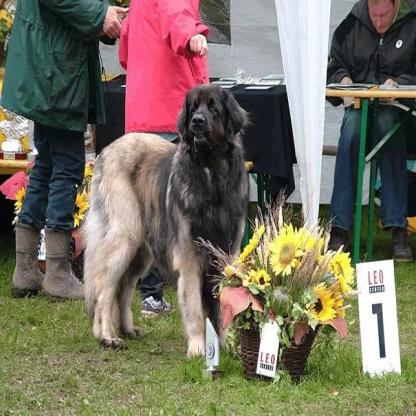Leonberg: (83, 78, 252, 358)
